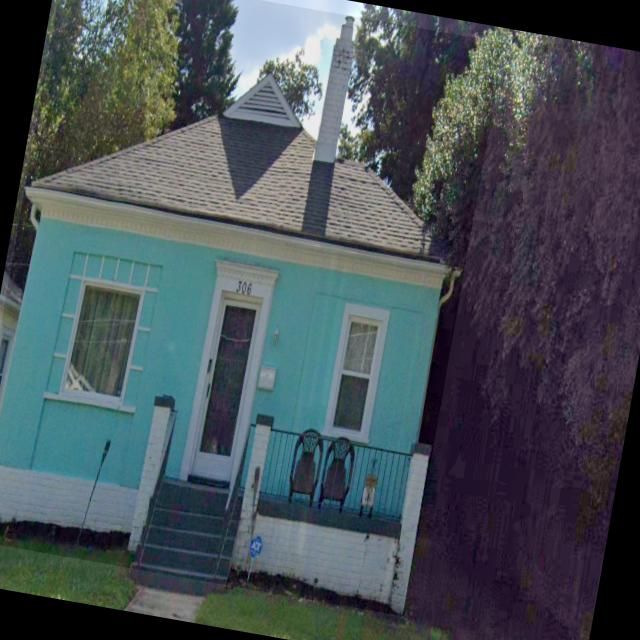House: (0, 0, 504, 616)
